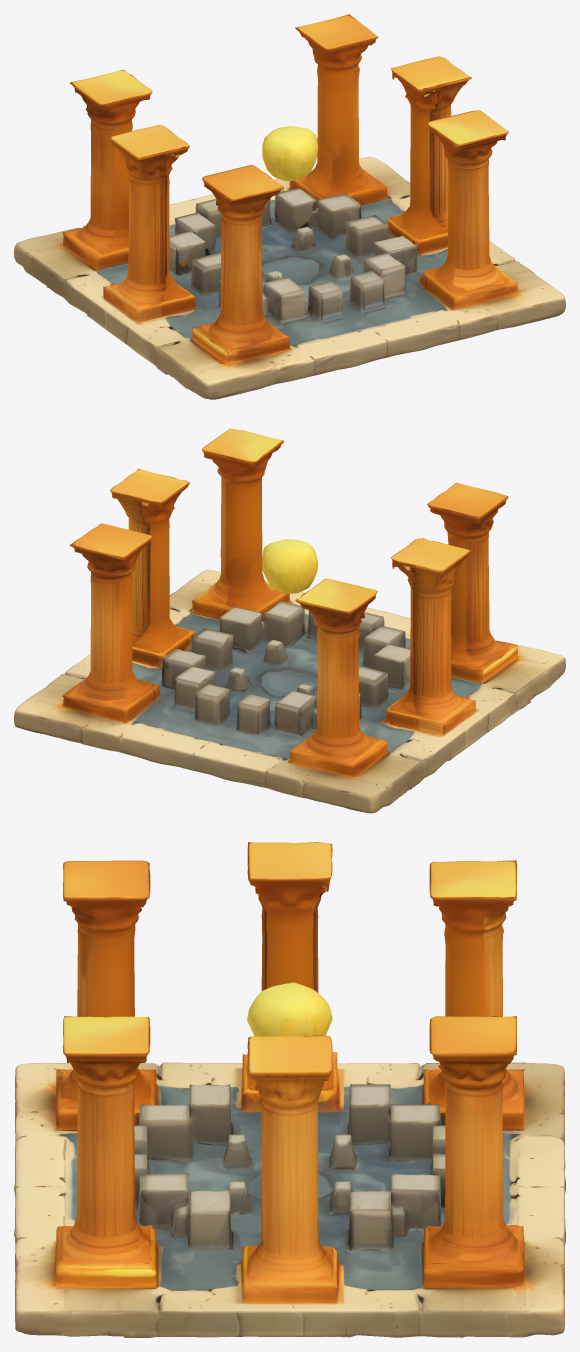
The picture shows the model from 3 angles, top to bottom: view 1: azimuth 30°, elevation 25°; view 2: azimuth 150°, elevation 25°; view 3: azimuth 270°, elevation 25°; orthographic projection. The views are drawn at different scales.
Parts seen in each view (by area): view 1: model; view 2: model; view 3: model.
Part boxes in pixels (bbox=[...]): model: bbox=[14, 14, 565, 399]; model: bbox=[14, 428, 565, 813]; model: bbox=[14, 842, 565, 1337].
Bounding box in the file's own units: 1.9 × 0.9006 × 1.76.
1 material, 1 textured.
